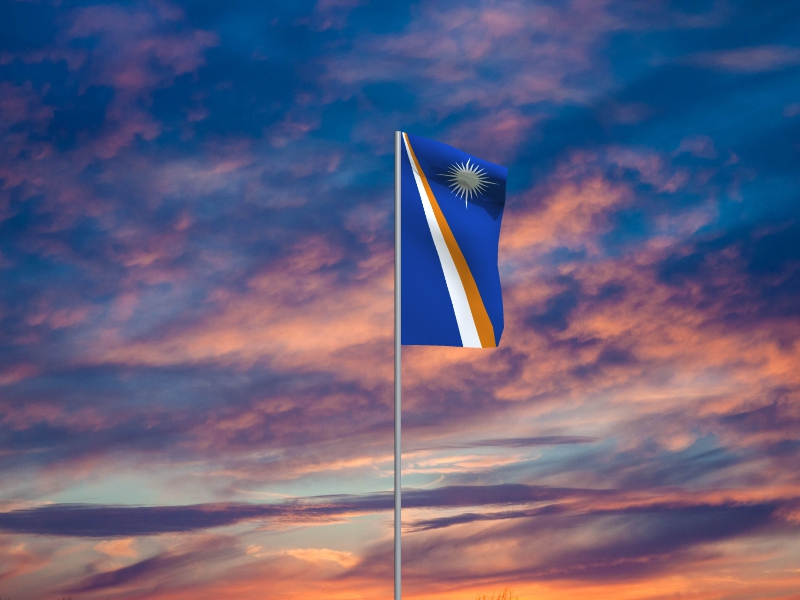mh: (402, 132, 510, 350)
